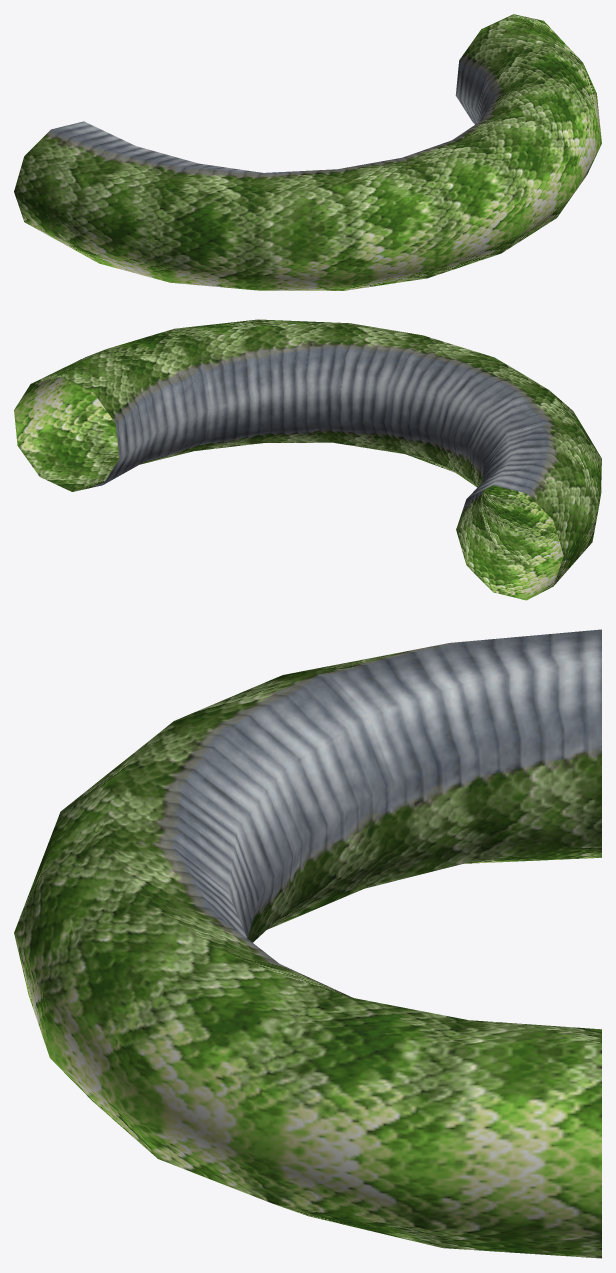
3 renders of one model, top to bottom at view 1: azimuth 30°, elevation 25°; view 2: azimuth 150°, elevation 25°; view 3: azimuth 270°, elevation 25°, orthographic. The views are drawn at different scales.
Parts seen in each view (by area): view 1: SMDImport; view 2: SMDImport; view 3: SMDImport.
Part boxes in pixels (<box>): SMDImport: <box>14,14,601,290</box>; SMDImport: <box>14,319,601,600</box>; SMDImport: <box>14,629,601,1258</box>.
Bounding box in the file's own units: 1282 × 251 × 642.
